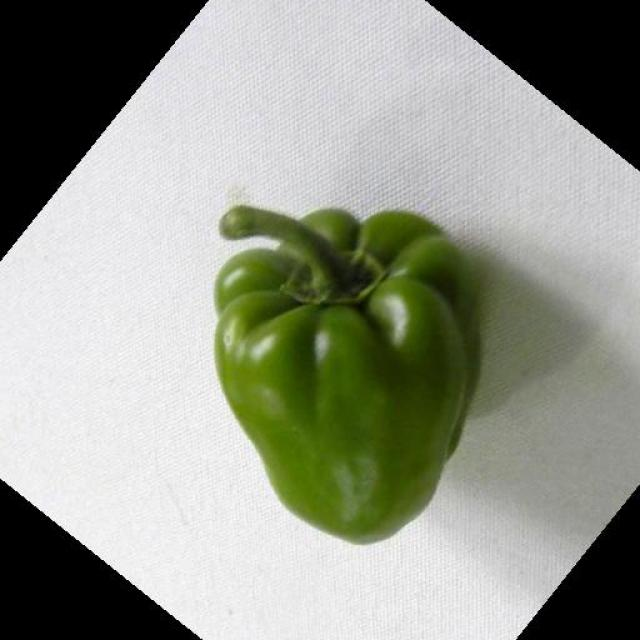Fresh_Capsicum: (200, 226, 486, 528)
